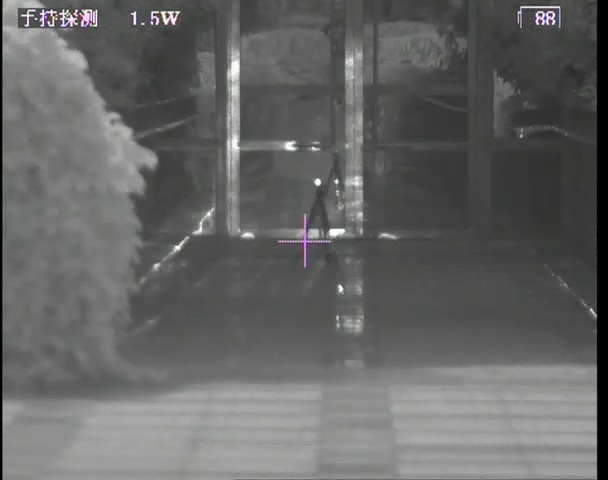my: (313, 177, 324, 187)
